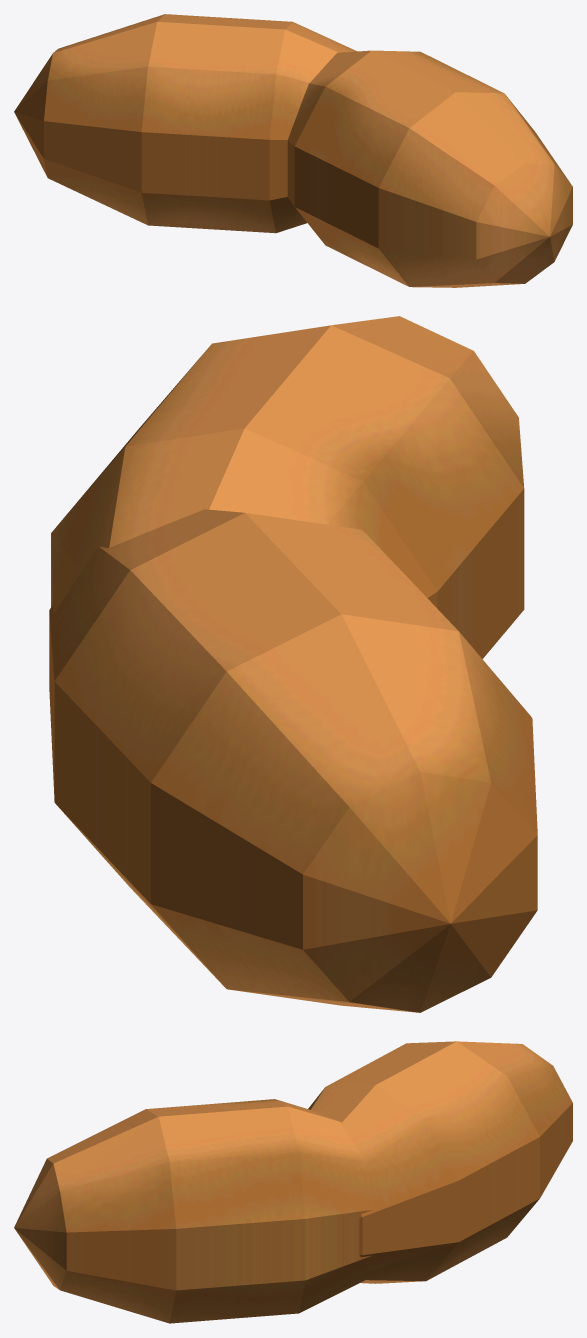
File: Nut.glb
3 renders of one model, top to bottom at view 1: azimuth 30°, elevation 25°; view 2: azimuth 150°, elevation 25°; view 3: azimuth 270°, elevation 25°, orthographic. The views are drawn at different scales.
Visible parts, largest first — view 1: Nut; view 2: Nut; view 3: Nut.
Part boxes in pixels (x1,y1,x2,y2): Nut: (14, 14, 572, 287); Nut: (49, 316, 537, 1012); Nut: (14, 1041, 572, 1323).
Bounding box in the file's own units: 13.1 × 7.08 × 18.06.
1 material, 1 textured.
